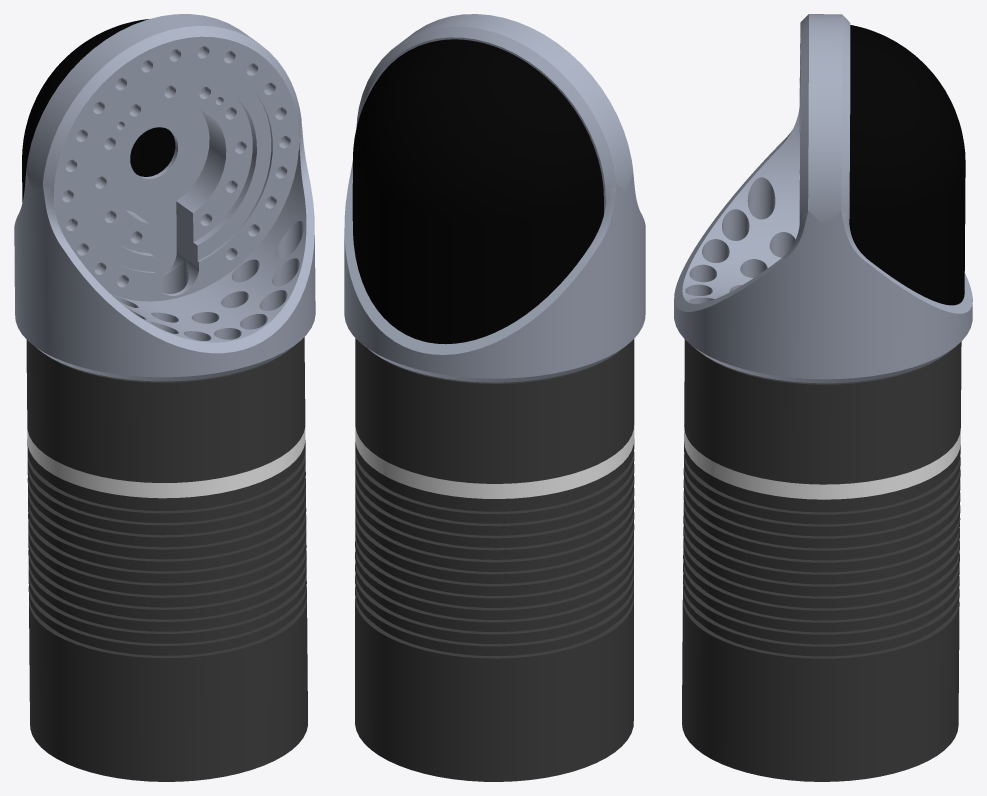
Rendered from Fifth.fbx.
The picture shows the model from 3 angles, left to right: view 1: azimuth 30°, elevation 25°; view 2: azimuth 150°, elevation 25°; view 3: azimuth 270°, elevation 25°; orthographic projection.
Visible parts, largest first — view 1: color, color-4, color-2, color-5; view 2: color, color-5, color-4, color-2; view 3: color, color-4, color-5, color-2.
Boxes of the visible parts, left/top/right/bottom form: color: left=26, top=337, right=307, bottom=781; color-4: left=14, top=14, right=315, bottom=381; color-2: left=27, top=427, right=305, bottom=498; color-5: left=22, top=19, right=175, bottom=202; color: left=355, top=338, right=634, bottom=781; color-5: left=352, top=39, right=603, bottom=344; color-4: left=344, top=14, right=645, bottom=382; color-2: left=355, top=425, right=634, bottom=498; color: left=682, top=339, right=961, bottom=781; color-4: left=674, top=14, right=972, bottom=383; color-5: left=849, top=25, right=965, bottom=305; color-2: left=684, top=428, right=960, bottom=499.
Size of the model in its own units: 5.42 by 13.92 by 5.4.
